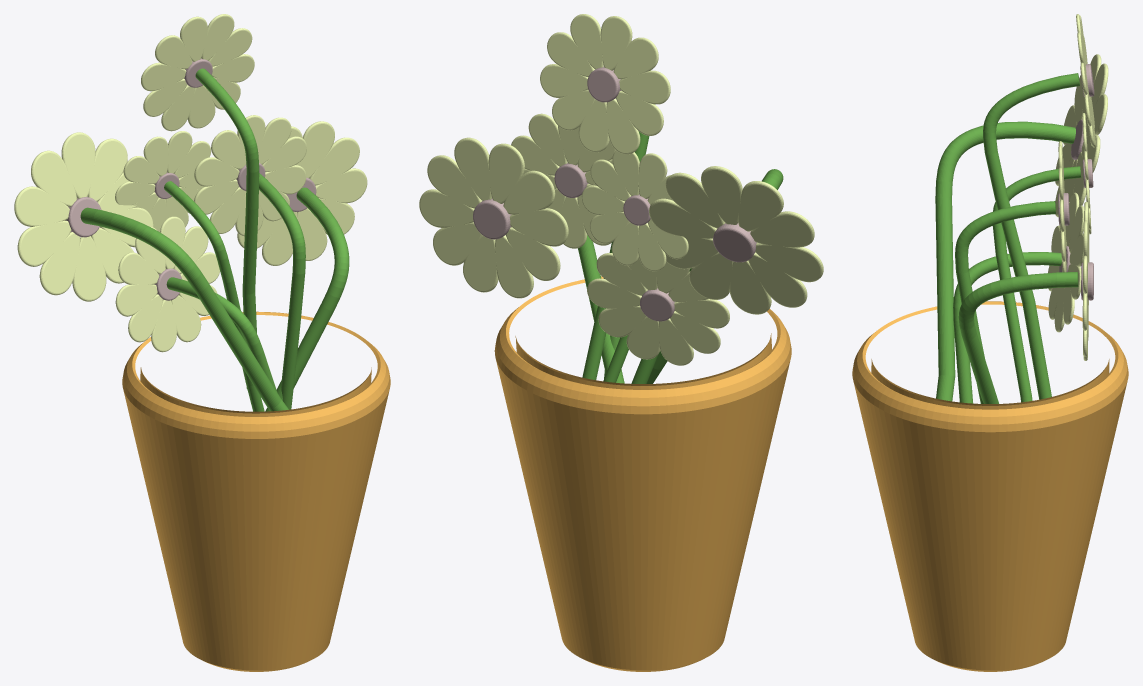
Rendered from flowers.glb.
The picture shows the model from 3 angles, left to right: view 1: azimuth 30°, elevation 25°; view 2: azimuth 150°, elevation 25°; view 3: azimuth 270°, elevation 25°; orthographic projection. The views are drawn at different scales.
Visible parts, largest first — view 1: Cylinder (×2), Sweep (×6), Cylinder.1 0 (×11), Cylinder.1 4 (×10), Cylinder.1 1 (×10), Cylinder.1 3 (×8), Cylinder.1 2 (×6); view 2: Cylinder (×7), Cylinder.1 1 (×11), Cylinder.1 0 (×11), Cylinder.1 3 (×10), Cylinder.1 2 (×11), Cylinder.1 4 (×7), Sweep (×2); view 3: Cylinder, Sweep (×6), Cylinder.1 1, Cylinder.1 0.
Boxes of the visible parts, x1,y1,x2,y2 form: Cylinder (×2): (65,197,390,671); Sweep (×6): (80,68,349,411); Cylinder.1 0 (×11): (31,14,359,274); Cylinder.1 4 (×10): (14,35,246,316); Cylinder.1 1 (×10): (87,28,367,273); Cylinder.1 3 (×8): (39,78,245,352); Cylinder.1 2 (×6): (91,85,327,342); Cylinder (×7): (473,67,791,671); Cylinder.1 1 (×11): (419,32,724,308); Cylinder.1 0 (×11): (427,14,783,293); Cylinder.1 3 (×10): (506,91,807,365); Cylinder.1 2 (×11): (463,89,733,359); Cylinder.1 4 (×7): (488,37,823,328); Sweep (×2): (578,131,649,383); Cylinder: (852,301,1128,671); Sweep (×6): (935,73,1081,403); Cylinder.1 1: (1086,94,1107,136); Cylinder.1 0: (1085,63,1108,125).
Size of the model in its own units: 681 by 1094 by 443.
